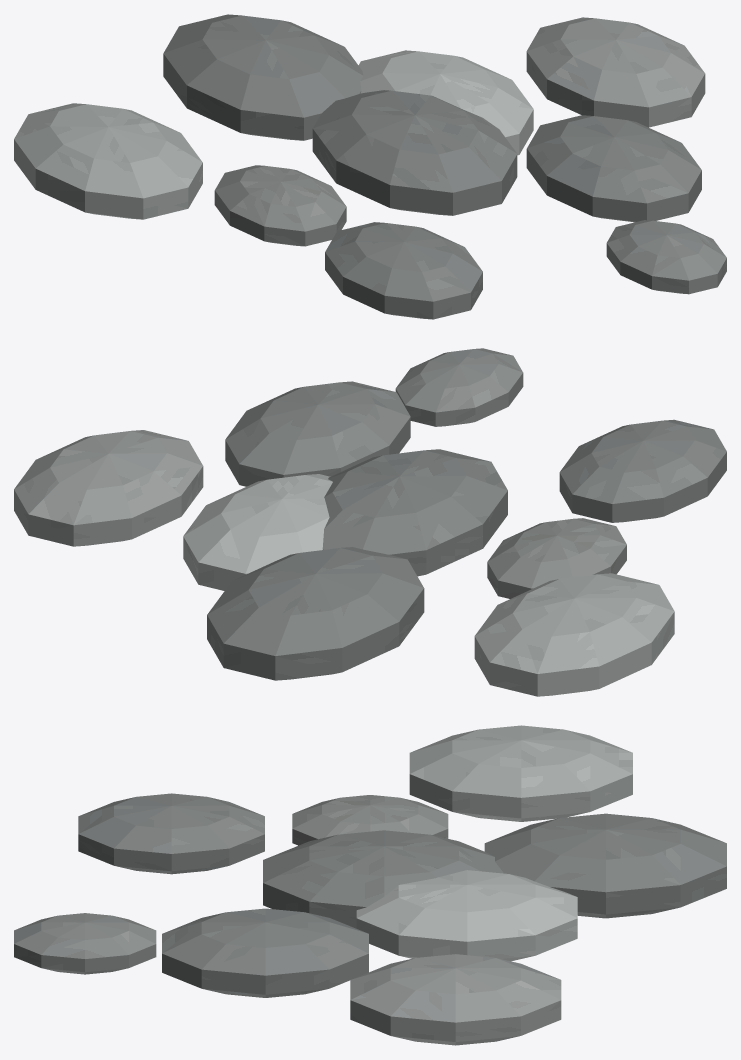
The model's file is seed_lentils.glb.
3 renders of one model, top to bottom at view 1: azimuth 30°, elevation 25°; view 2: azimuth 150°, elevation 25°; view 3: azimuth 270°, elevation 25°, orthographic. The views are drawn at different scales.
Parts seen in each view (by area): view 1: block_grain 0, block_grain 4, block_grain 7, block_grain 6, block_grain 3, block_grain 5, block_grain 2, block_grain 1, block_grain 8; view 2: block_grain 4, block_grain 7, block_grain 0, block_grain 6, block_grain 3, block_grain 5, block_grain 1, block_grain 2, block_grain 8; view 3: block_grain 4, block_grain 7, block_grain 6, block_grain 1, block_grain 3, block_grain 0, block_grain 5, block_grain 8, block_grain 2.
Boxes of the visible parts, left/top/right/bottom form: block_grain 0: left=312, top=90, right=517, bottom=215; block_grain 4: left=163, top=14, right=363, bottom=140; block_grain 7: left=14, top=103, right=202, bottom=219; block_grain 6: left=526, top=17, right=705, bottom=127; block_grain 3: left=526, top=115, right=701, bottom=222; block_grain 5: left=325, top=222, right=482, bottom=319; block_grain 2: left=214, top=165, right=346, bottom=246; block_grain 1: left=358, top=50, right=533, bottom=155; block_grain 8: left=606, top=220, right=726, bottom=294; block_grain 4: left=207, top=547, right=424, bottom=680; block_grain 7: left=474, top=573, right=674, bottom=696; block_grain 0: left=322, top=449, right=507, bottom=576; block_grain 6: left=14, top=430, right=203, bottom=546; block_grain 3: left=225, top=381, right=410, bottom=486; block_grain 5: left=559, top=419, right=726, bottom=522; block_grain 1: left=183, top=474, right=332, bottom=590; block_grain 2: left=487, top=518, right=626, bottom=598; block_grain 8: left=395, top=348, right=523, bottom=426; block_grain 4: left=484, top=813, right=726, bottom=918; block_grain 7: left=409, top=725, right=632, bottom=821; block_grain 6: left=350, top=954, right=561, bottom=1045; block_grain 1: left=356, top=870, right=577, bottom=961; block_grain 3: left=162, top=908, right=368, bottom=997; block_grain 0: left=263, top=830, right=503, bottom=928; block_grain 5: left=78, top=793, right=264, bottom=874; block_grain 8: left=14, top=913, right=156, bottom=974; block_grain 2: left=292, top=795, right=448, bottom=845.
Size of the model in its own units: 0.0846 by 0.00982 by 0.0875.
Materials: 1 (1 with a texture image).
